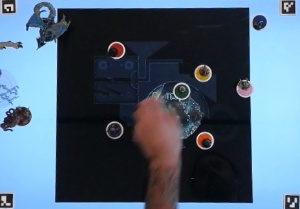blue: (251, 13, 270, 31)
green: (171, 81, 192, 100)
orange: (193, 130, 217, 149)
pink: (236, 79, 258, 99)
red: (106, 40, 126, 60)
violet: (104, 119, 124, 141)
yellow: (194, 63, 214, 84)
